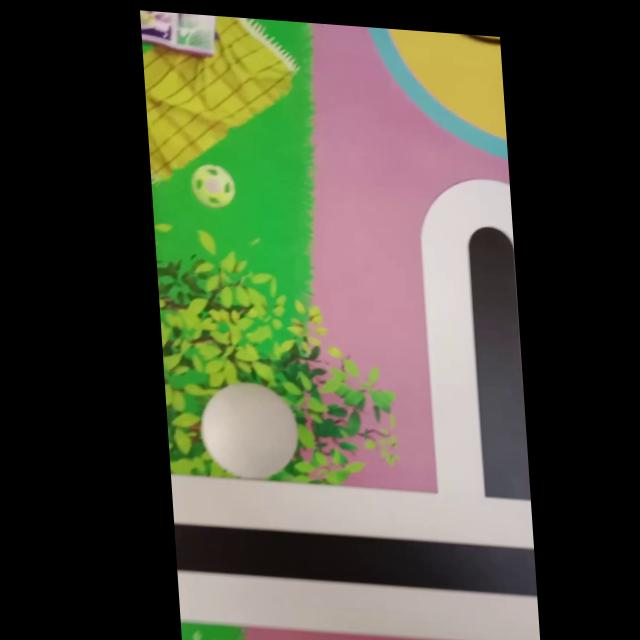white ball: (197, 377, 302, 482)
